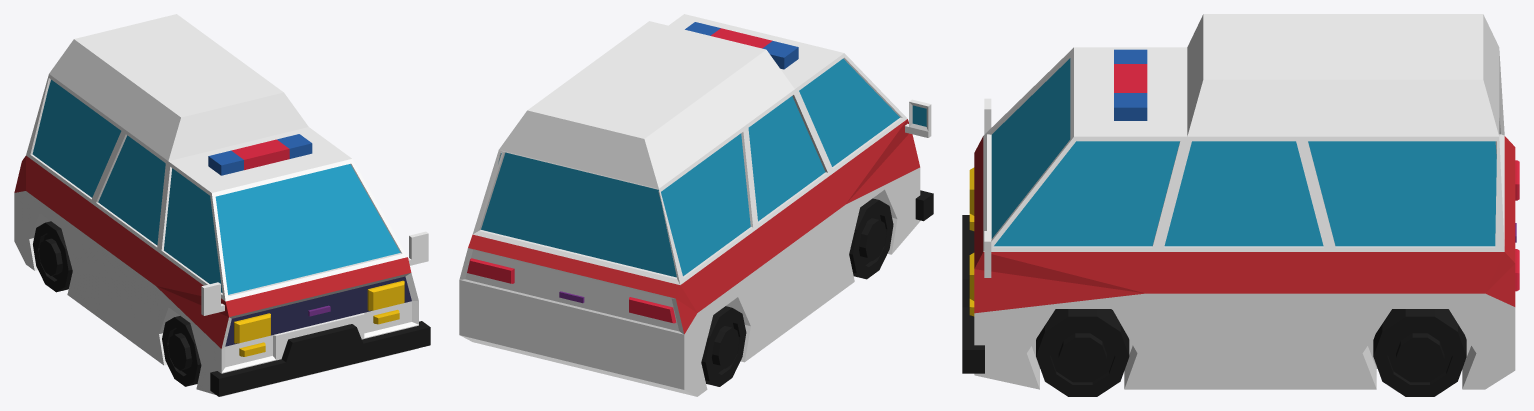
File: ambulance.obj
3 renders of one model, left to right at view 1: azimuth 30°, elevation 25°; view 2: azimuth 150°, elevation 25°; view 3: azimuth 270°, elevation 25°, orthographic. The views are drawn at different scales.
Parts seen in each view (by area): view 1: ambulamce_Cube.010; view 2: ambulamce_Cube.010; view 3: ambulamce_Cube.010.
Part boxes in pixels (bbox=[...]): ambulamce_Cube.010: bbox=[14, 14, 430, 396]; ambulamce_Cube.010: bbox=[459, 14, 933, 396]; ambulamce_Cube.010: bbox=[962, 14, 1519, 396].
Bounding box in the file's own units: 4.39 × 4.1 × 7.21.
